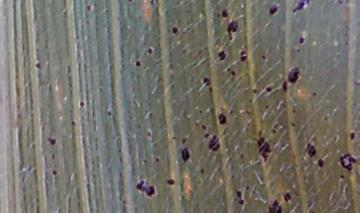tarspot: (256, 136, 273, 163), (134, 178, 156, 198), (338, 153, 356, 172), (225, 18, 239, 41), (291, 1, 311, 15), (206, 134, 221, 152), (267, 198, 283, 213), (287, 66, 300, 84), (233, 189, 246, 207), (304, 141, 317, 158), (180, 147, 190, 163), (238, 49, 248, 63), (280, 79, 288, 96), (218, 7, 229, 19), (218, 113, 227, 127), (268, 5, 279, 16), (165, 177, 177, 187), (200, 76, 212, 86), (45, 137, 57, 146), (217, 49, 226, 61), (170, 25, 179, 36), (297, 35, 306, 46), (317, 157, 325, 169), (283, 192, 291, 203), (348, 130, 356, 141), (84, 2, 92, 13), (78, 99, 86, 109), (33, 61, 41, 70), (50, 168, 58, 177), (179, 137, 187, 146), (256, 128, 264, 137), (169, 82, 177, 91), (146, 46, 153, 56), (106, 109, 113, 119), (153, 156, 161, 164), (264, 85, 272, 93), (352, 80, 360, 88), (134, 59, 141, 68), (239, 151, 245, 161), (70, 119, 77, 127), (270, 127, 277, 135), (200, 124, 207, 132), (229, 69, 236, 77), (338, 172, 345, 180), (289, 121, 296, 129), (199, 167, 205, 176), (179, 47, 186, 54), (62, 9, 69, 16), (146, 129, 151, 138), (259, 54, 266, 60), (203, 132, 210, 138), (170, 135, 177, 141), (244, 184, 250, 191), (332, 135, 338, 142), (141, 159, 148, 165), (294, 46, 300, 53), (208, 85, 213, 93), (193, 121, 199, 127), (197, 108, 203, 114), (311, 91, 317, 97), (251, 87, 257, 93), (263, 103, 269, 109), (290, 107, 296, 113), (322, 115, 328, 121), (228, 108, 234, 114), (343, 39, 348, 46), (50, 153, 55, 159), (147, 112, 152, 118), (343, 1, 350, 5), (336, 1, 342, 5), (126, 1, 134, 4), (226, 67, 231, 71)
